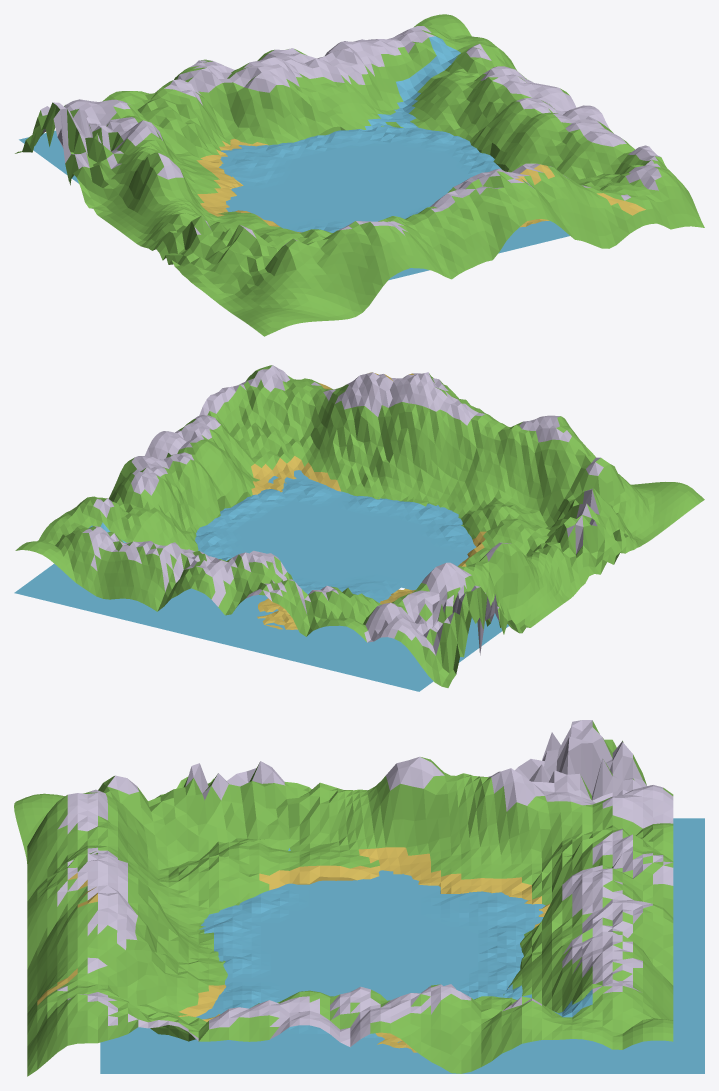
The model's file is land_smooth.dae.
3 renders of one model, top to bottom at view 1: azimuth 30°, elevation 25°; view 2: azimuth 150°, elevation 25°; view 3: azimuth 270°, elevation 25°, orthographic. The views are drawn at different scales.
Parts seen in each view (by area): view 1: Plane; view 2: Plane; view 3: Plane.
Part boxes in pixels (box(x1,y1,x2,y2)): Plane: box(15, 14, 704, 336); Plane: box(14, 365, 704, 691); Plane: box(14, 720, 704, 1076).
Bounding box in the file's own units: 1963 × 2055 × 470.
